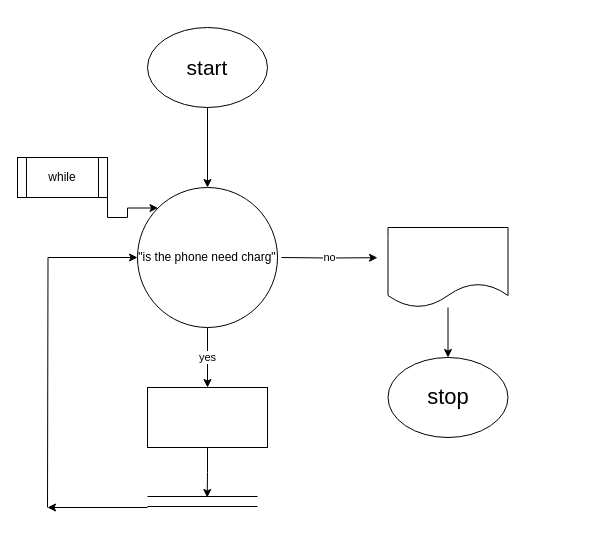
Some shapes in this 605 by 533 pixel diagram are drawn without their labels. Each missing label, with the centre of its shape:
"charg the phone": the point at 207,417
"keep the phone": the point at 447,267
